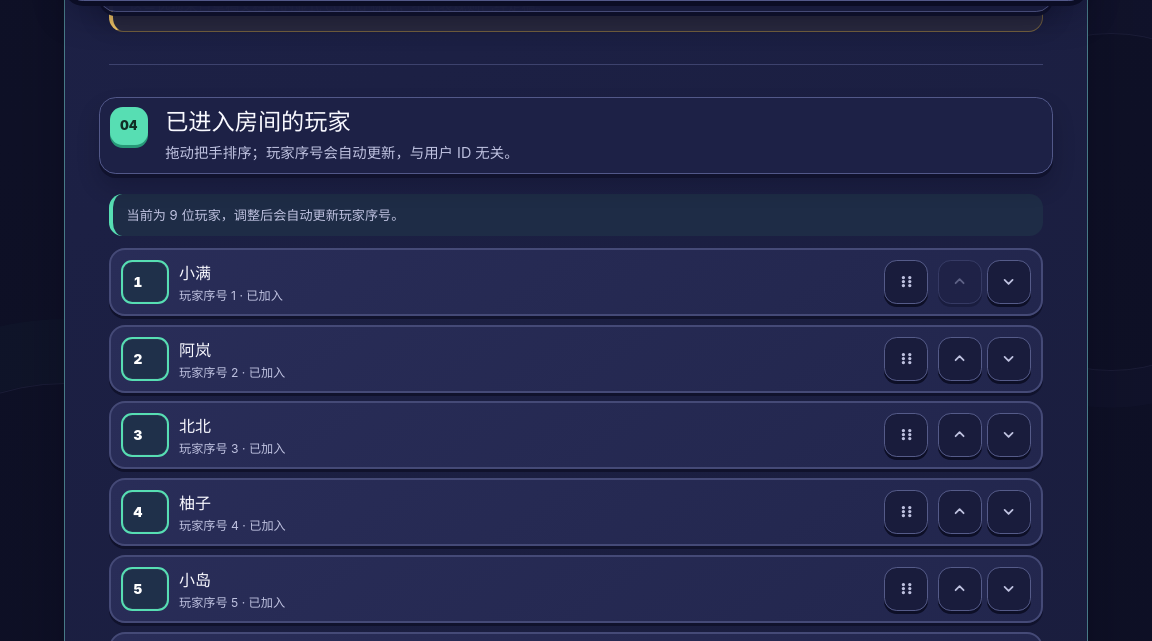
Test case: 上帝 Mock 流程 › 调整玩家顺序后自动更新玩家序号
The width and height of the screenshot is (1152, 641).
(page scrolled)
Click the button named "下移小满" at [1009, 282], box [987,260,1031,304]
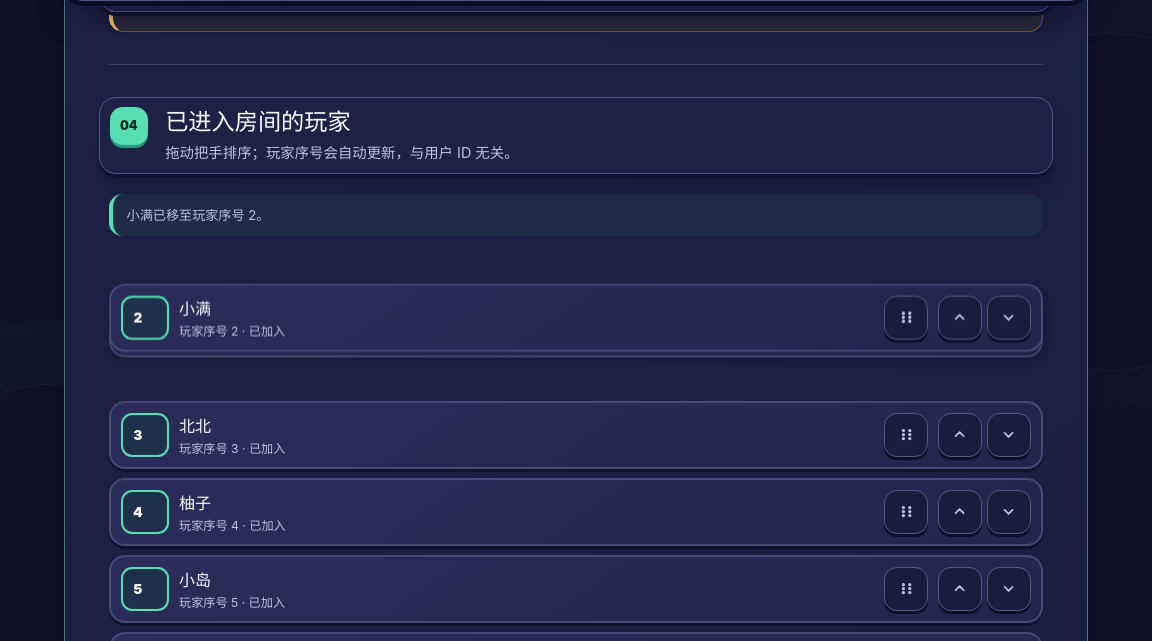
Expected: the list item "阿岚 玩家序号 1 · 已加入" is shown, [109,261,1043,329]
Expected: the text "小满已移至玩家序号 2。" is shown, [109,194,1043,236]
